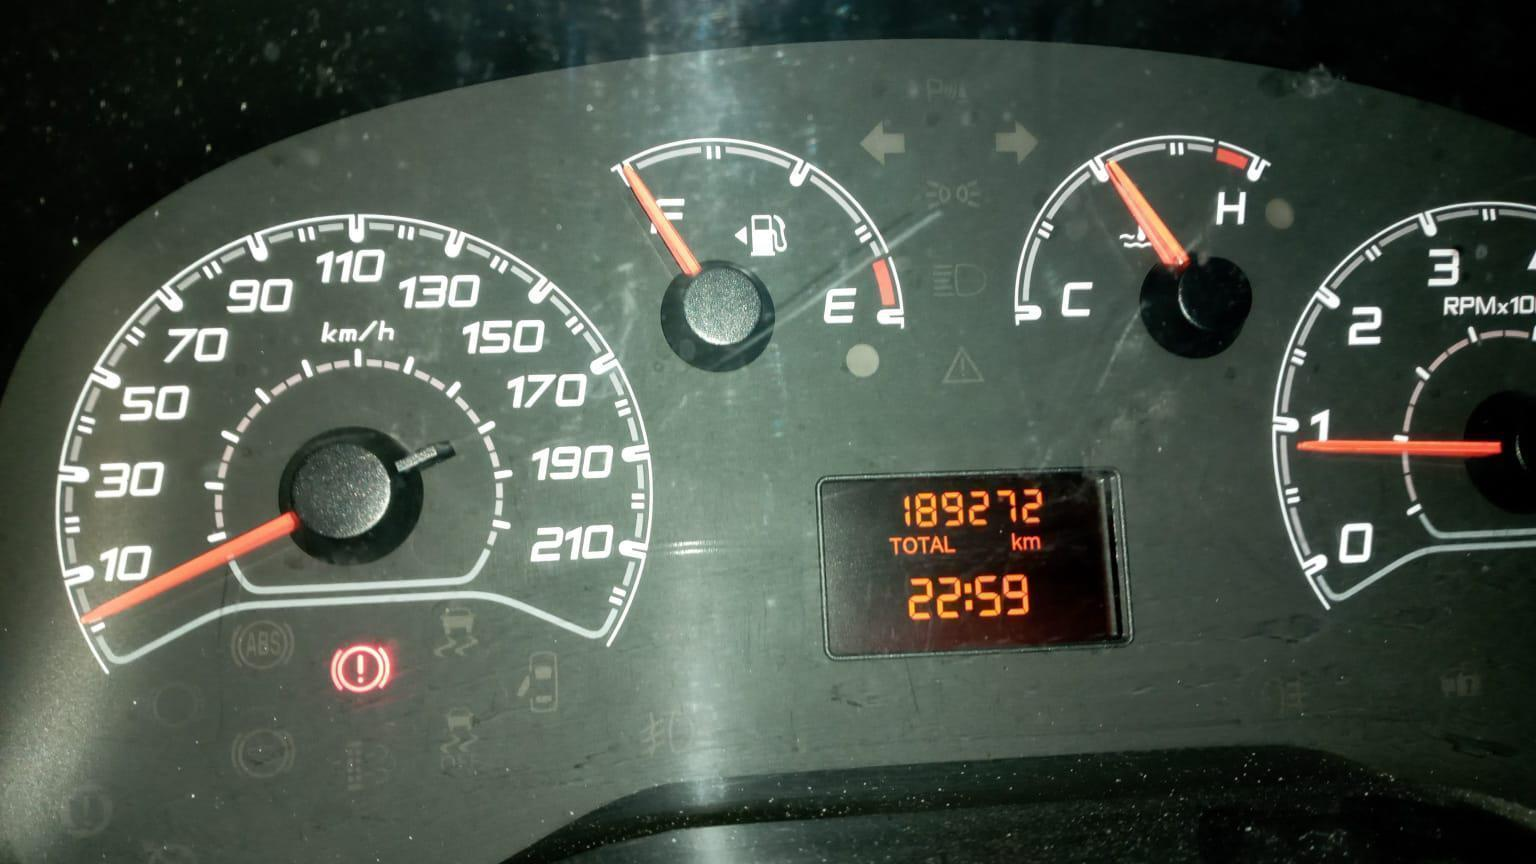1: (902, 494, 911, 527)
2: (935, 576, 961, 619), (907, 577, 933, 620), (968, 489, 991, 526), (1020, 488, 1043, 523)
5: (974, 574, 1001, 616)
7: (996, 489, 1017, 523)
8: (914, 491, 938, 527)
9: (1002, 573, 1030, 615), (940, 489, 964, 527)
X: (901, 536, 918, 554), (1022, 535, 1041, 551), (962, 582, 973, 611), (929, 535, 944, 554), (916, 535, 929, 555), (1010, 531, 1022, 551), (888, 536, 901, 556), (943, 535, 956, 554)
odometer: (814, 464, 1136, 664)
